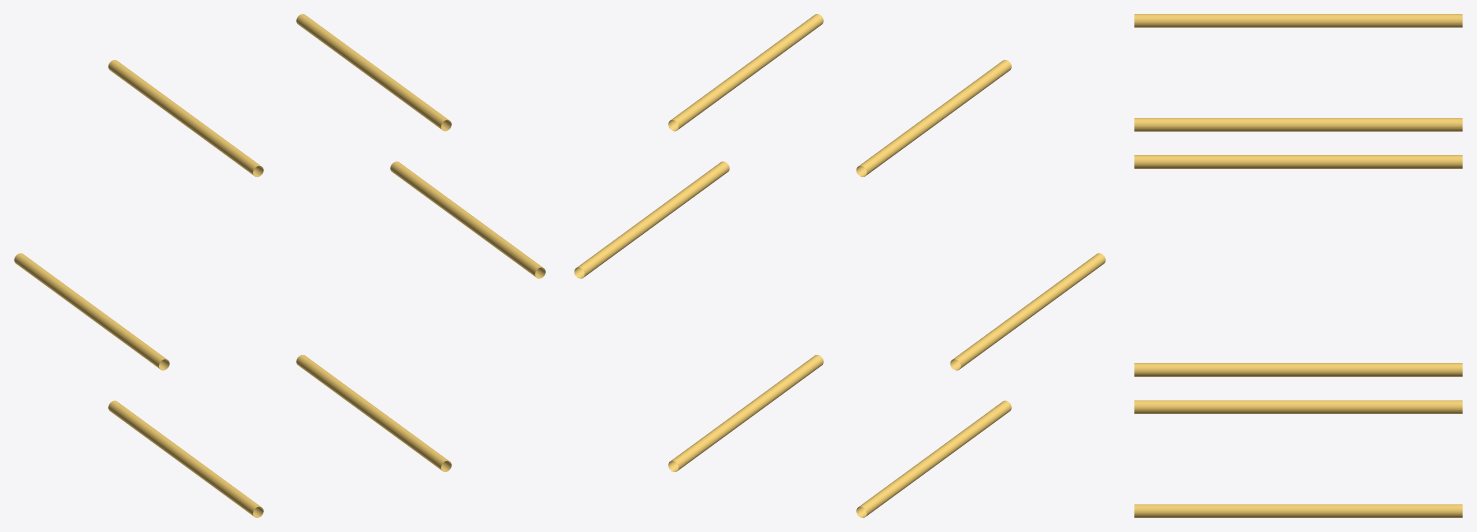
The model's file is column_wrap_ideal_only.glb.
3 renders of one model, left to right at view 1: azimuth 30°, elevation 25°; view 2: azimuth 150°, elevation 25°; view 3: azimuth 270°, elevation 25°, orthographic. The views are drawn at different scales.
Visible parts, largest first — view 1: column3_ideal_only, column0_ideal_only, column5_ideal_only, column4_ideal_only, column2_ideal_only, column1_ideal_only; view 2: column3_ideal_only, column0_ideal_only, column5_ideal_only, column4_ideal_only, column2_ideal_only, column1_ideal_only; view 3: column5_ideal_only, column4_ideal_only, column3_ideal_only, column2_ideal_only, column1_ideal_only, column0_ideal_only.
Part boxes in pixels (box(x1,y1,x2,y2)): column3_ideal_only: box(14, 253, 169, 370); column0_ideal_only: box(390, 161, 545, 278); column5_ideal_only: box(296, 355, 451, 471); column4_ideal_only: box(108, 400, 263, 517); column2_ideal_only: box(108, 60, 263, 176); column1_ideal_only: box(296, 14, 451, 131); column3_ideal_only: box(950, 253, 1105, 370); column0_ideal_only: box(574, 161, 729, 278); column5_ideal_only: box(668, 355, 823, 471); column4_ideal_only: box(856, 400, 1011, 517); column2_ideal_only: box(856, 60, 1011, 176); column1_ideal_only: box(668, 14, 823, 131); column5_ideal_only: box(1134, 504, 1462, 517); column4_ideal_only: box(1134, 400, 1462, 413); column3_ideal_only: box(1134, 155, 1462, 168); column2_ideal_only: box(1134, 14, 1462, 27); column1_ideal_only: box(1134, 118, 1462, 131); column0_ideal_only: box(1134, 363, 1462, 376).
Bounding box in the file's own units: 370 × 322 × 240.
